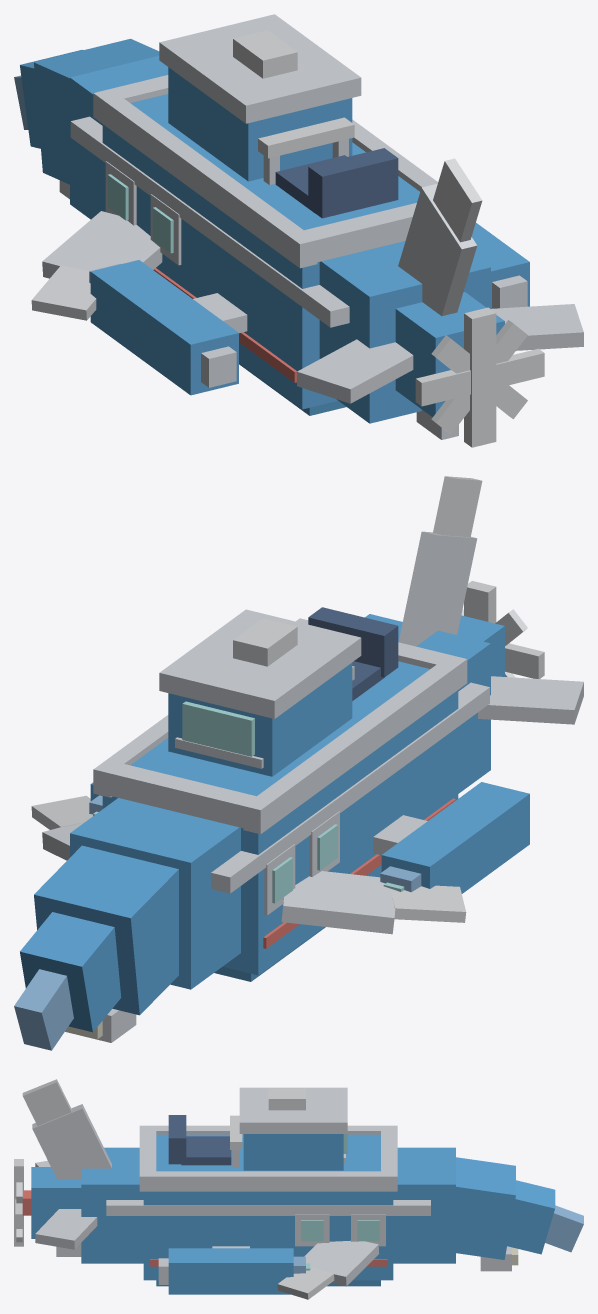
Rendered from BlueStreak.glb.
3 views of the same model, one above another, from view 1: azimuth 30°, elevation 25°; view 2: azimuth 150°, elevation 25°; view 3: azimuth 270°, elevation 25° (orthographic). The views are drawn at different scales.
Visible parts, largest first — view 1: Hull, Prop, Seat, Hull_Glow; view 2: Hull, Hull_Glow, Seat, Prop; view 3: Hull, Seat, Hull_Glow, Prop.
Part boxes in pixels (x1,y1,x2,y2): Hull: (14,14,583,439); Prop: (415,307,544,447); Seat: (258,117,398,218); Hull_Glow: (107,174,173,253); Hull: (14,476,583,1050); Hull_Glow: (93,701,404,903); Seat: (308,607,398,700); Prop: (461,581,544,678); Hull: (22,1079,583,1299); Seat: (168,1115,242,1166); Hull_Glow: (301,1134,379,1270); Prop: (14,1159,31,1246).
Size of the model in its own units: 25.11 by 16.55 by 45.67.
